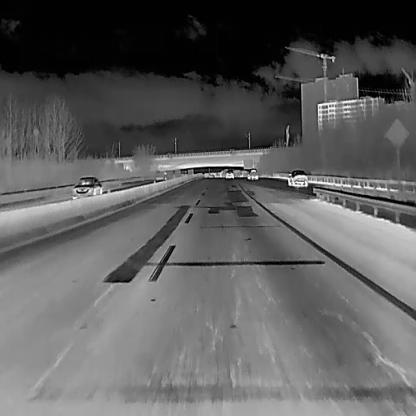car: (72, 176, 102, 196), (286, 169, 307, 186), (246, 168, 259, 179), (225, 171, 234, 178)
